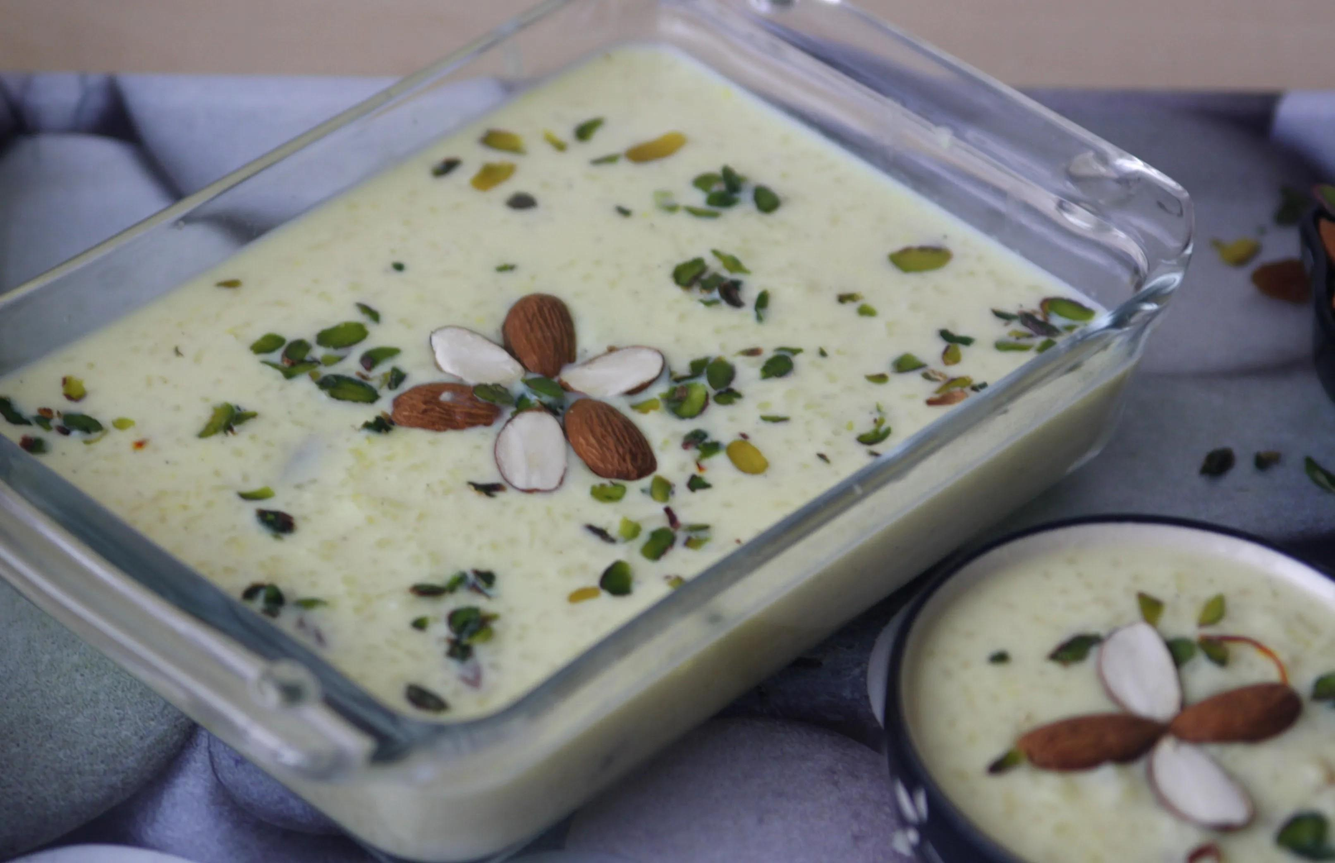Kheer: (0, 42, 1121, 859), (912, 547, 1335, 863)
